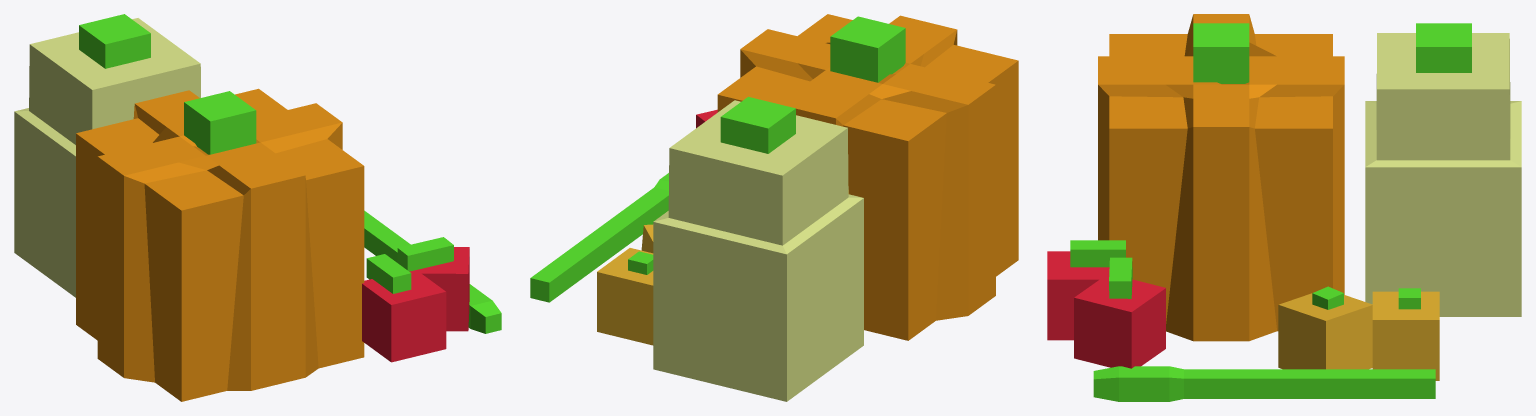
The model's file is Veg.fbx.
The picture shows the model from 3 angles, left to right: view 1: azimuth 30°, elevation 25°; view 2: azimuth 150°, elevation 25°; view 3: azimuth 270°, elevation 25°; orthographic projection. The views are drawn at different scales.
Visible parts, largest first — view 1: Cube, Cube.002, Cube.006, Cube.001, Cube.003, Cube.008, Cube.012, Cube.011, Cube.007; view 2: Cube, Cube.002, Cube.008, Cube.005, Cube.001, Cube.003, Cube.010; view 3: Cube, Cube.002, Cube.008, Cube.012, Cube.004, Cube.005, Cube.001, Cube.006, Cube.003, Cube.007, Cube.011, Cube.009 (+1 smaller).
Boxes of the visible parts, box(x1,y1,x2,y2) form: Cube: box(76, 88, 364, 401); Cube.002: box(14, 18, 200, 297); Cube.006: box(362, 272, 446, 362); Cube.001: box(184, 91, 256, 154); Cube.003: box(79, 14, 150, 68); Cube.008: box(364, 210, 501, 333); Cube.012: box(409, 247, 469, 331); Cube.011: box(397, 237, 453, 271); Cube.007: box(366, 254, 411, 293); Cube: box(717, 14, 1018, 340); Cube.002: box(653, 100, 863, 401); Cube.008: box(530, 173, 668, 302); Cube.005: box(597, 248, 653, 345); Cube.001: box(830, 16, 905, 82); Cube.003: box(720, 96, 795, 153); Cube.010: box(628, 251, 653, 274); Cube: box(1098, 14, 1344, 341); Cube.002: box(1365, 33, 1521, 316); Cube.008: box(1093, 366, 1435, 401); Cube.012: box(1074, 273, 1165, 368); Cube.004: box(1278, 293, 1372, 369); Cube.005: box(1372, 291, 1439, 380); Cube.001: box(1193, 23, 1249, 83); Cube.006: box(1047, 251, 1109, 340); Cube.003: box(1416, 23, 1471, 72); Cube.007: box(1070, 240, 1125, 267); Cube.011: box(1109, 257, 1132, 298); Cube.009: box(1312, 286, 1343, 309).
Bounding box in the file's own units: 365 × 265 × 424.
